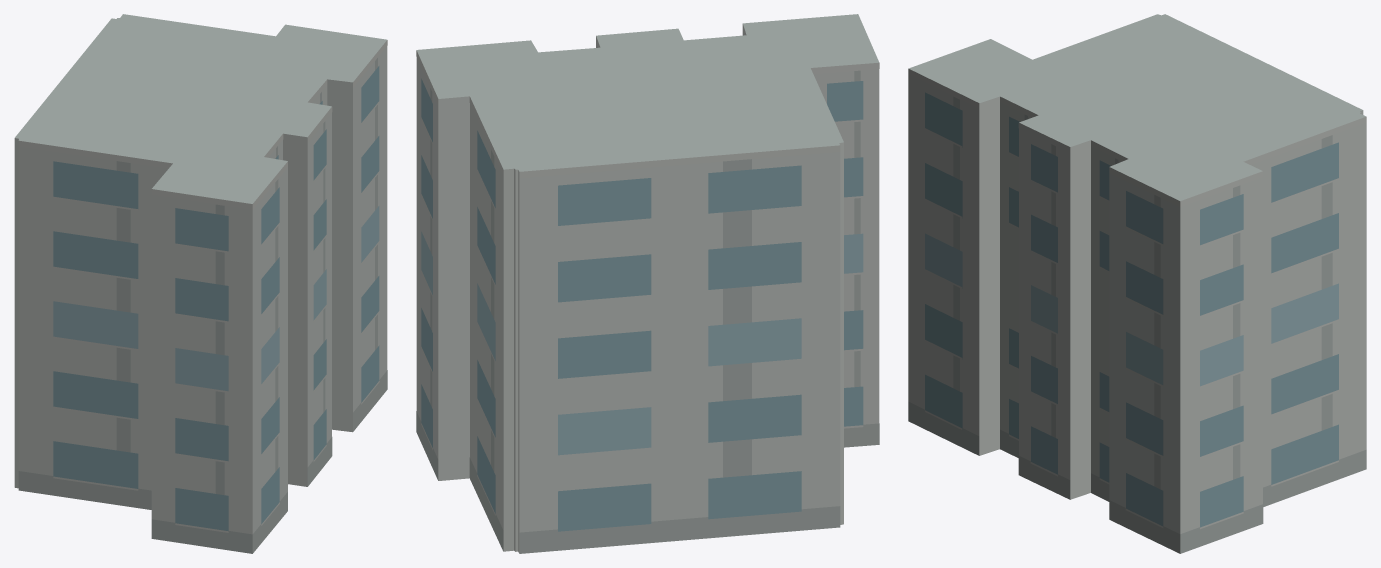
File: survey-upis-32789673.glb
3 views of the same model, side by side, from view 1: azimuth 30°, elevation 25°; view 2: azimuth 150°, elevation 25°; view 3: azimuth 270°, elevation 25° (orthographic). The views are drawn at different scales.
Parts seen in each view (by area): view 1: survey-upis-32789673.tmp; view 2: survey-upis-32789673.tmp; view 3: survey-upis-32789673.tmp.
Boxes of the visible parts, <box> form: survey-upis-32789673.tmp: <box>14,14,387,553</box>; survey-upis-32789673.tmp: <box>416,14,879,553</box>; survey-upis-32789673.tmp: <box>908,14,1366,553</box>.
Size of the model in its own units: 16.4 by 14.4 by 16.96.
